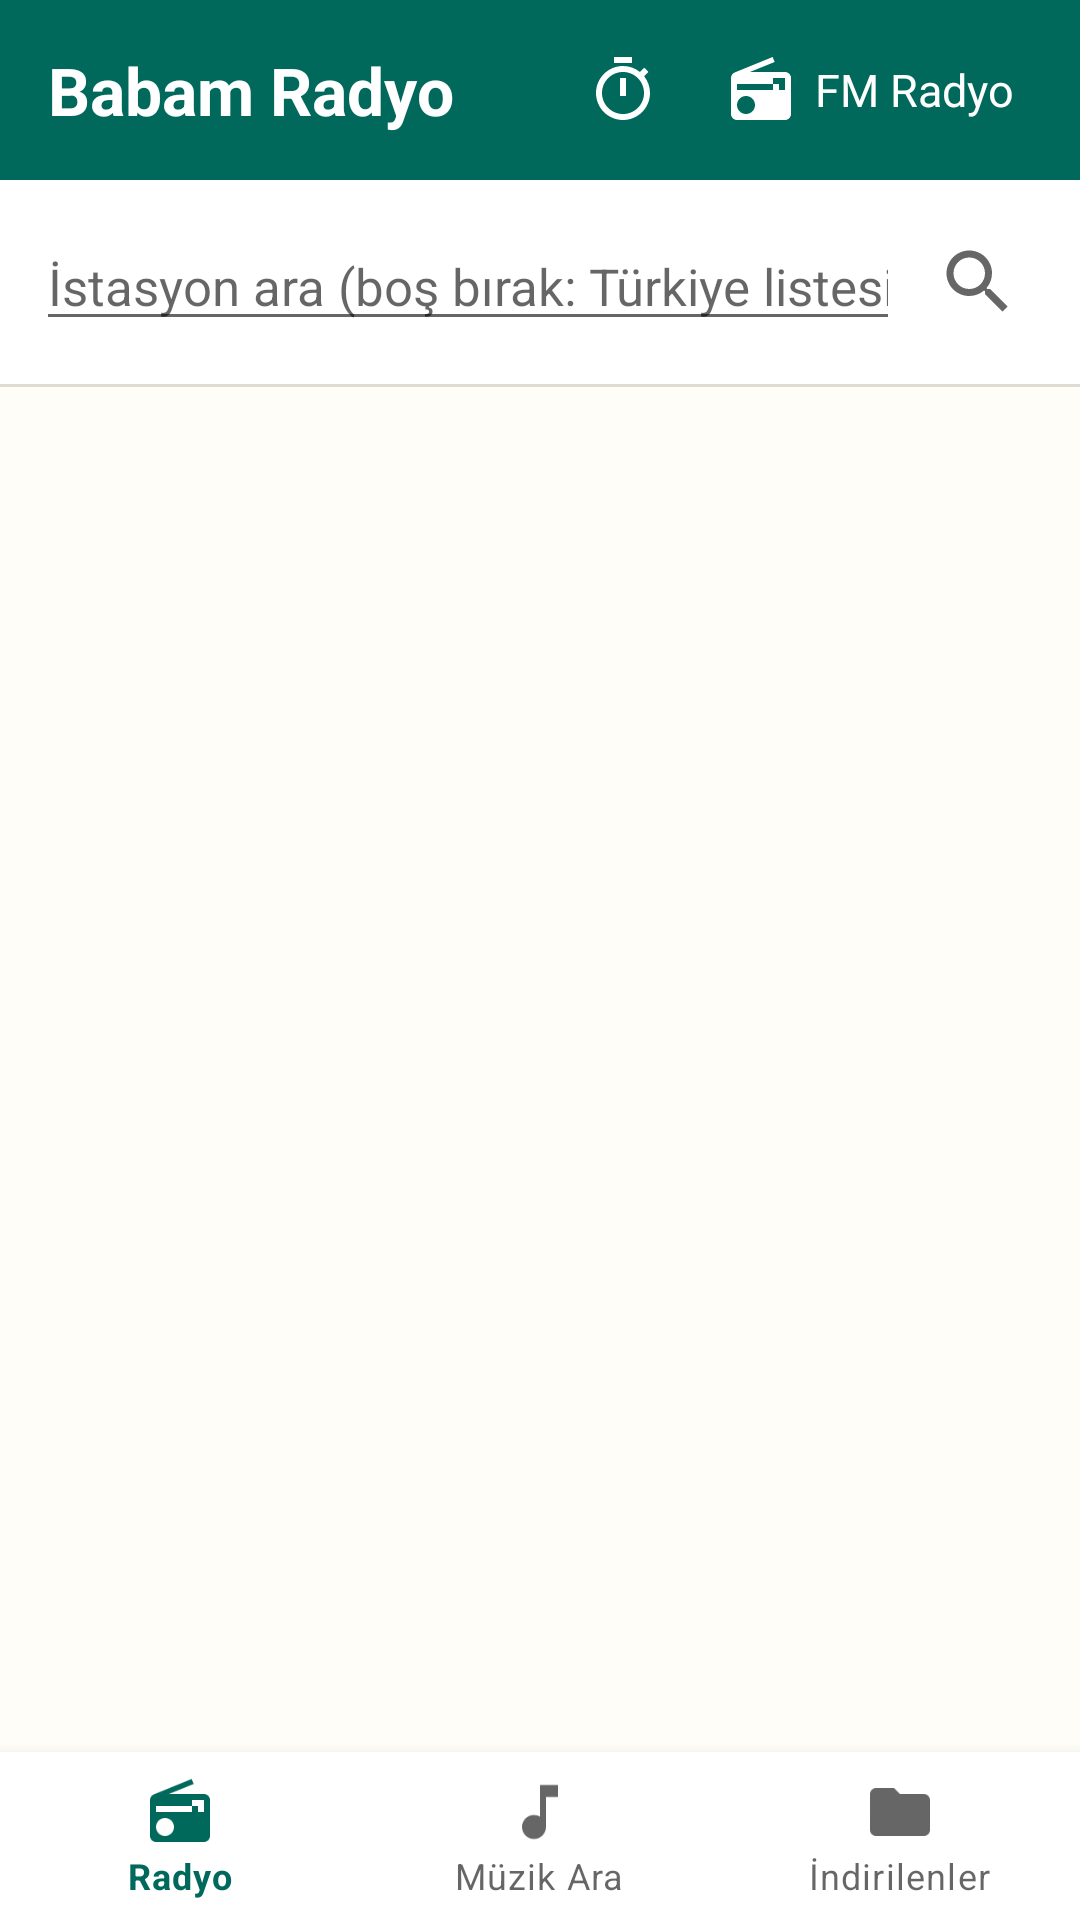

Icon bounding boxes for this 1080w x 1920h phone screenshot, format (x1, y1, x2, y2):
Uyku zamanlayıcı: (596, 57, 650, 120)
